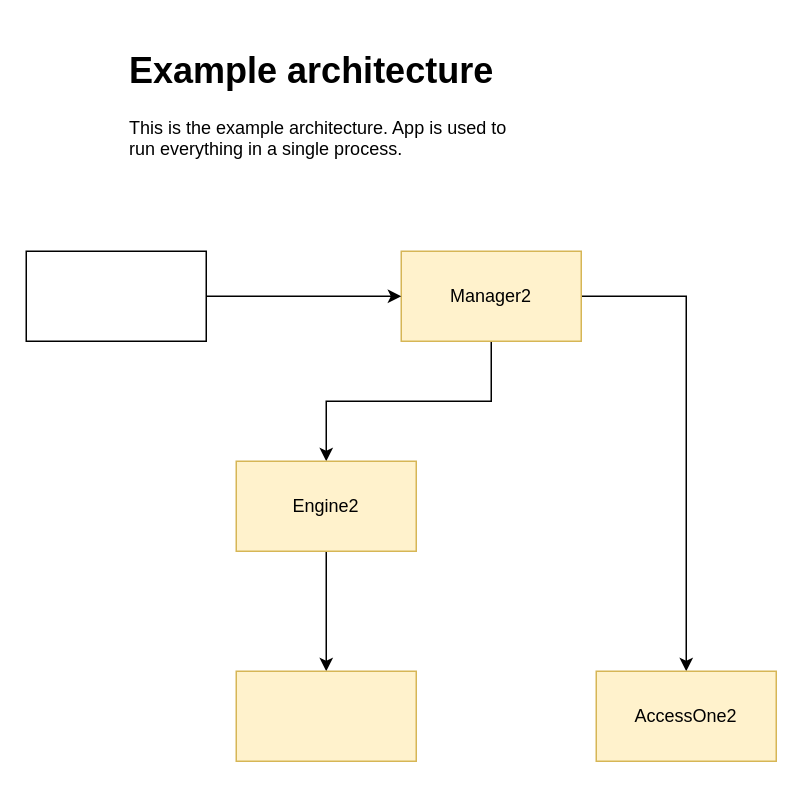
The diagram is 803 pixels wide and 788 high, and some of its shapes have lost their labels. Each missing label, with the box of its shape:
AccessTwo2: (235, 670, 416, 761)
App2: (25, 250, 206, 341)
